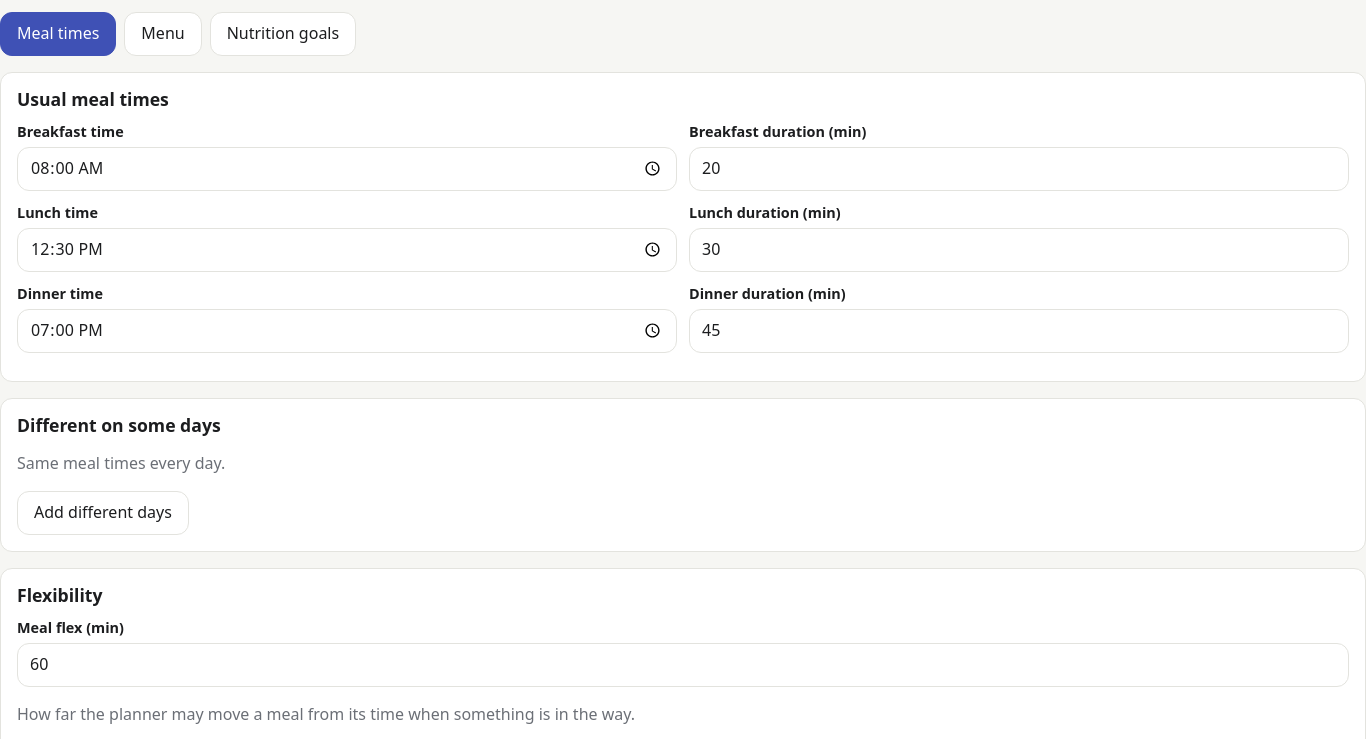
Scenario: meal times PATCH sends only the meal keys
Replace the text in the time field labelled "Lunch time" with "13:00" at [347, 250], box [17,228,677,272]
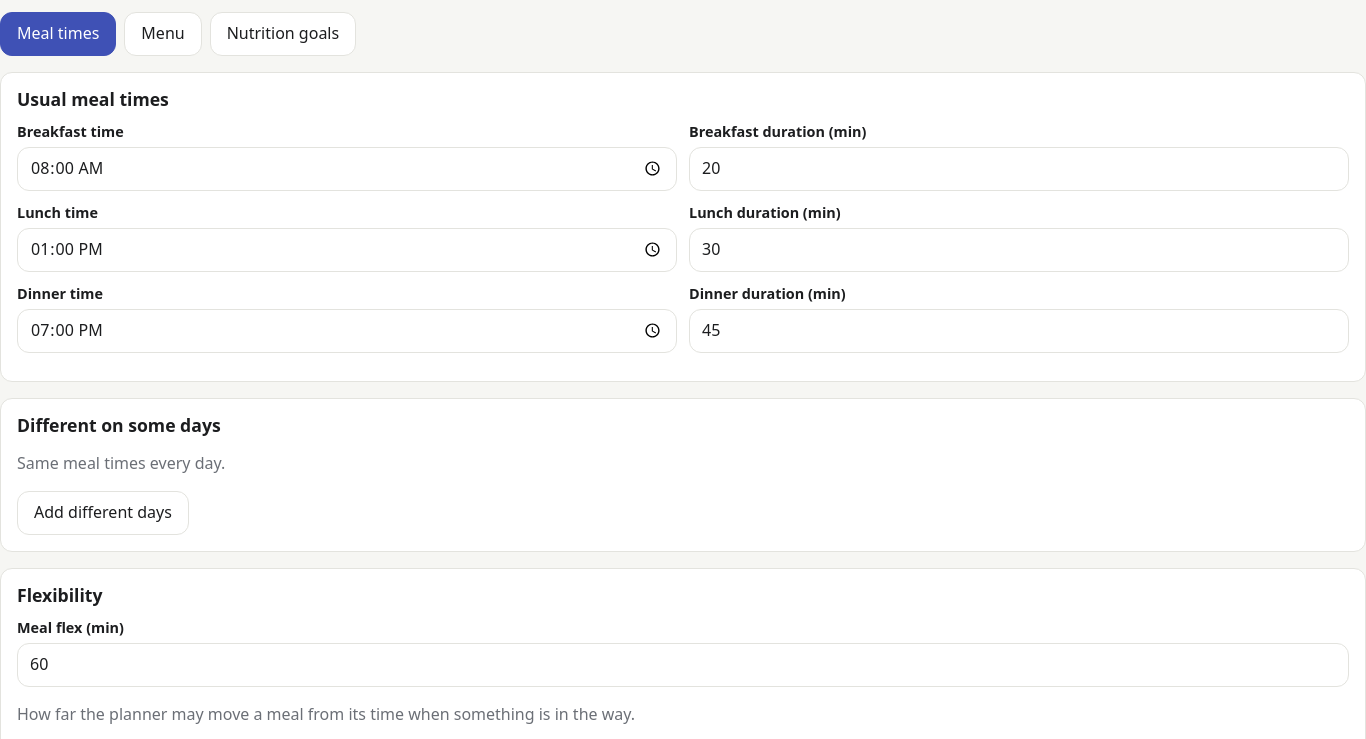
Replace the text in the number field labelled "Meal flex (min)" with "30" at [683, 665], box [17,643,1349,687]
(page scrolled)
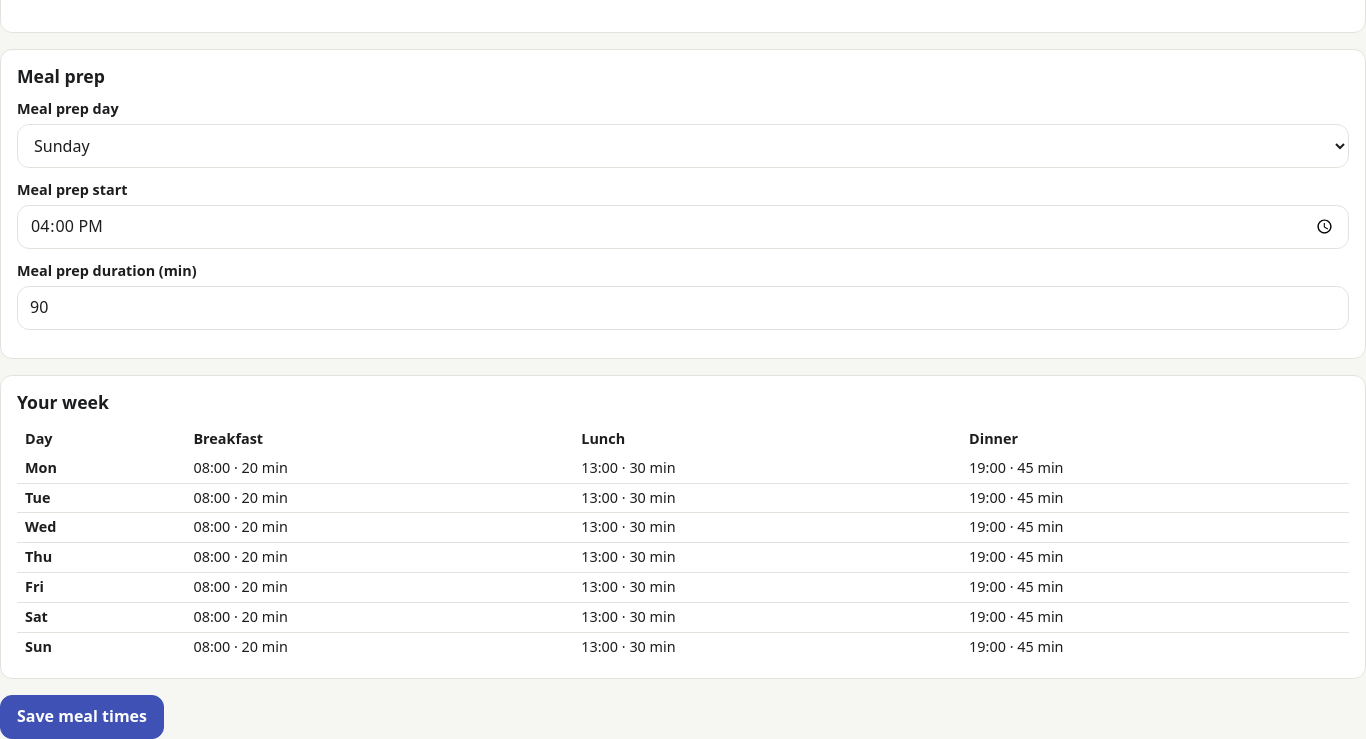
Click the button "Save meal times" at [82, 717], box [0,695,164,738]
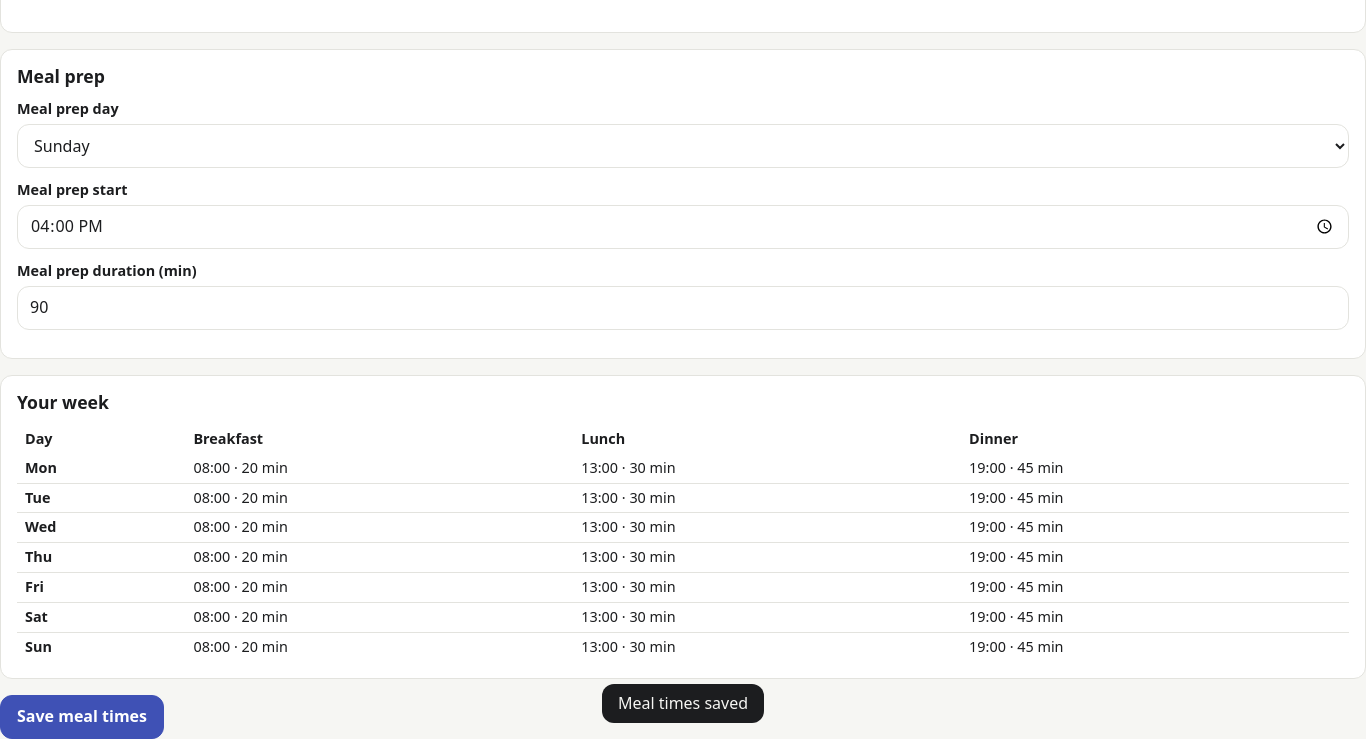
Expected: the text "Meal times saved" is shown, [602,684,764,723]
